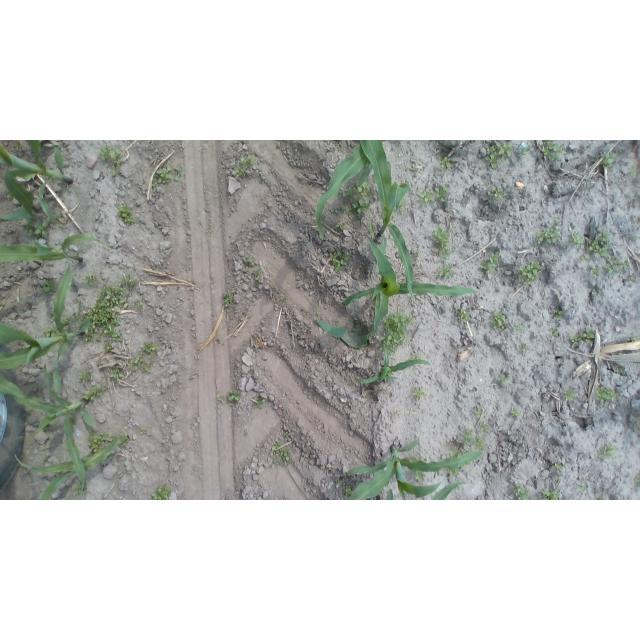Maize: (317, 232, 480, 351), (0, 364, 96, 492), (1, 259, 88, 395), (360, 140, 415, 302), (347, 438, 483, 500), (11, 438, 127, 500), (315, 141, 384, 236), (0, 141, 74, 224), (0, 232, 110, 264), (354, 343, 433, 385), (386, 489, 395, 500)
Weeds: (79, 273, 137, 347), (380, 309, 415, 357), (99, 144, 126, 176), (486, 142, 513, 168), (588, 230, 611, 259), (431, 226, 451, 256), (271, 441, 292, 468), (536, 222, 561, 244), (329, 249, 351, 273), (115, 203, 137, 226), (519, 261, 541, 283), (480, 252, 500, 274), (543, 142, 566, 161), (351, 196, 370, 219), (62, 312, 82, 333), (26, 219, 48, 238), (605, 258, 631, 274), (86, 428, 102, 453), (597, 386, 620, 403), (85, 384, 108, 400), (152, 166, 170, 186), (142, 342, 159, 361), (219, 390, 242, 404), (152, 485, 173, 500), (513, 482, 530, 500), (570, 232, 586, 251), (599, 443, 618, 459), (491, 311, 506, 329), (129, 353, 144, 371), (419, 188, 435, 204), (239, 156, 257, 169), (464, 429, 477, 446), (436, 185, 448, 203), (441, 264, 456, 278), (542, 489, 561, 500), (74, 482, 90, 495), (334, 204, 351, 216), (43, 278, 56, 293), (222, 290, 234, 306), (458, 308, 470, 324), (358, 181, 371, 195), (603, 154, 617, 167), (583, 328, 595, 343), (110, 367, 125, 379), (413, 388, 426, 401), (85, 273, 98, 286), (472, 434, 485, 447), (440, 156, 452, 170), (52, 211, 64, 225), (352, 319, 365, 331), (579, 482, 591, 495), (491, 186, 504, 198), (254, 395, 267, 407), (43, 327, 57, 338), (591, 266, 602, 279), (173, 168, 184, 181), (252, 268, 262, 282), (143, 360, 154, 372), (628, 167, 640, 178), (564, 389, 575, 401), (79, 372, 91, 383), (245, 256, 257, 267), (120, 434, 131, 446), (343, 187, 355, 198), (571, 335, 582, 347), (625, 275, 639, 284), (398, 198, 407, 212), (479, 422, 490, 433), (448, 467, 461, 476), (136, 297, 144, 311), (415, 471, 426, 481), (235, 167, 246, 177), (553, 309, 563, 320), (450, 449, 461, 459), (10, 141, 20, 152), (520, 147, 531, 157), (344, 484, 353, 496), (510, 407, 520, 417), (499, 374, 509, 384), (554, 461, 563, 472), (104, 434, 115, 443), (105, 342, 116, 351), (475, 407, 483, 419), (615, 365, 625, 374), (522, 346, 531, 356), (628, 334, 638, 343), (369, 224, 378, 234), (70, 416, 77, 428), (336, 221, 345, 230), (280, 294, 289, 303), (139, 426, 148, 434), (634, 477, 640, 489), (411, 354, 421, 361), (580, 254, 588, 262), (284, 431, 291, 440), (551, 328, 558, 337), (6, 192, 14, 199), (43, 454, 48, 464), (598, 495, 608, 500), (515, 324, 522, 331), (335, 478, 342, 485), (27, 435, 34, 442), (302, 308, 308, 316), (418, 455, 426, 461), (44, 427, 53, 432), (407, 458, 416, 463), (565, 495, 574, 500), (206, 227, 212, 234)
